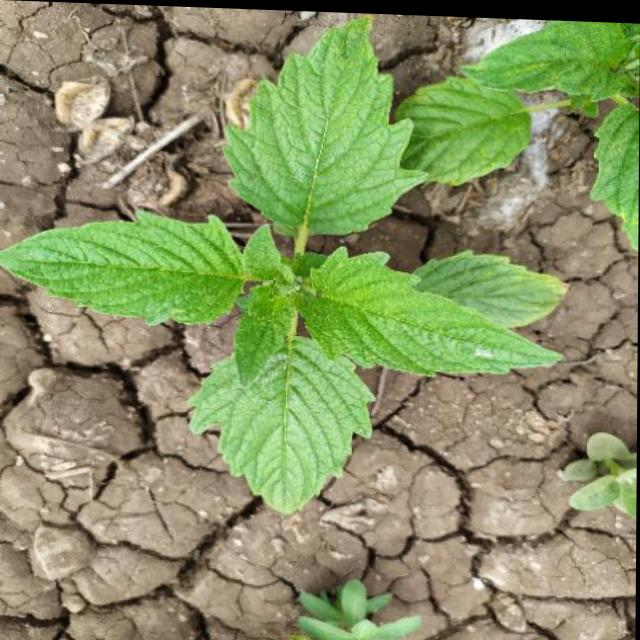crop: (6, 21, 567, 517)
